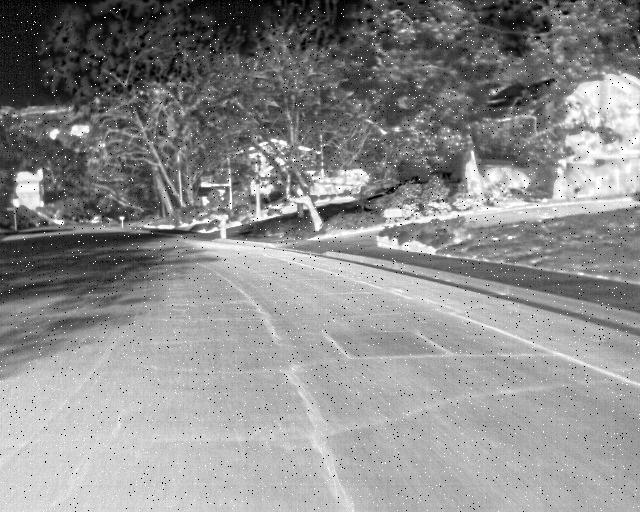mail box: (113, 214, 133, 233)
